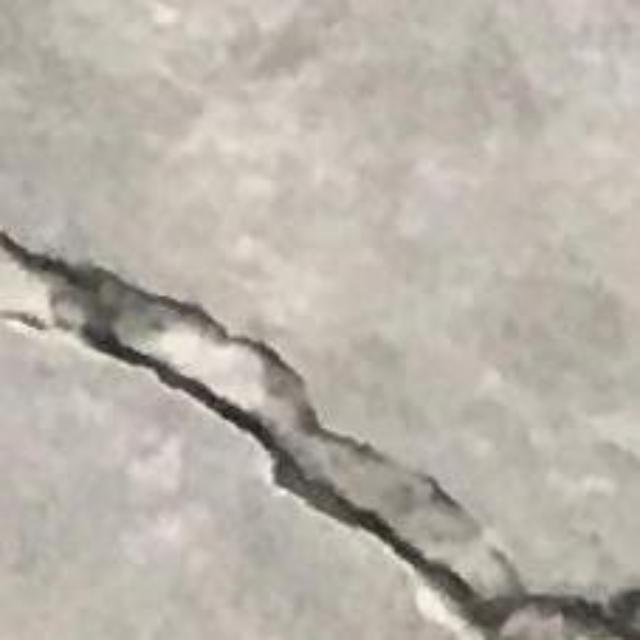crack: (0, 232, 639, 639)
